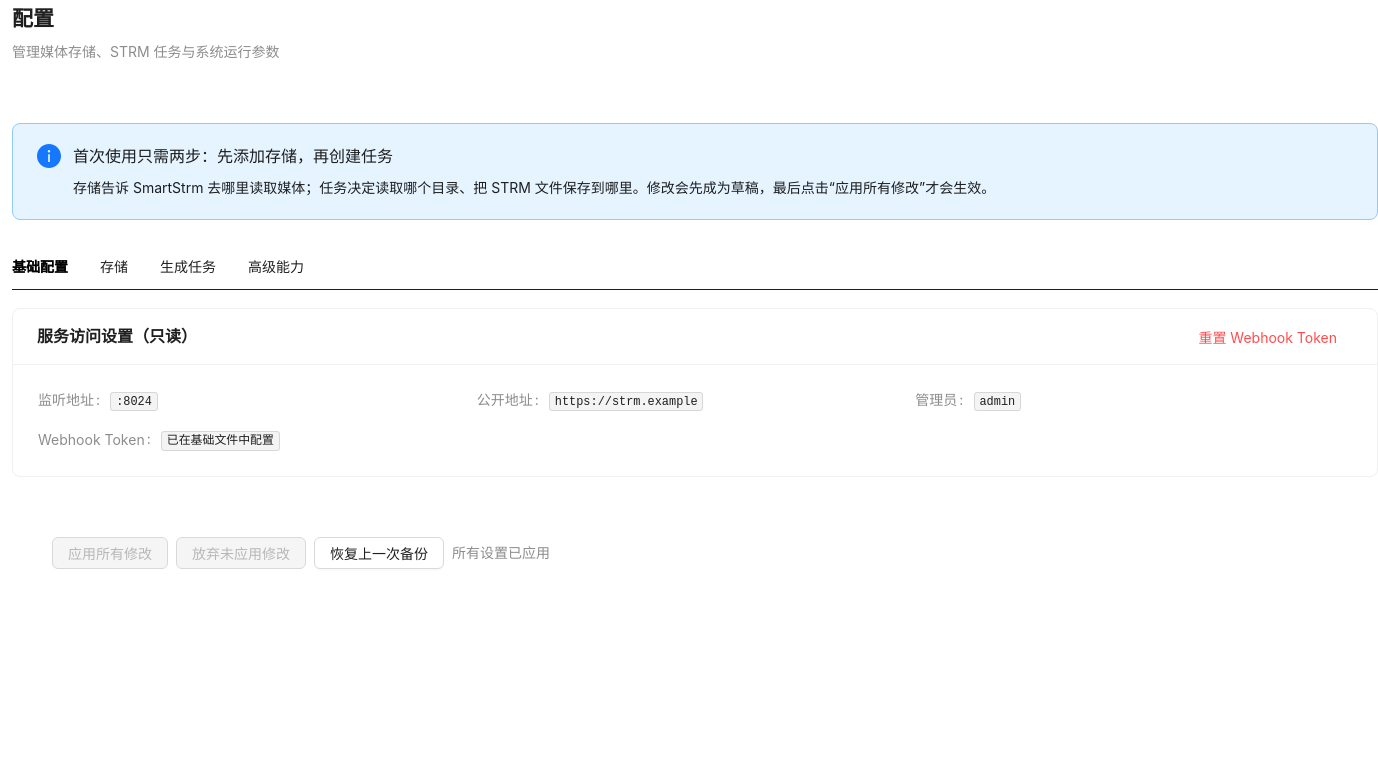
it: 加载并以四个标签页渲染配置区块
Expected: the text "服务访问设置（只读）" is shown, [37,326,197,346]
Expected: the text ":8024" is shown, [110,392,158,411]
Click the tab "存储": (114, 267) [100,256,128,278]
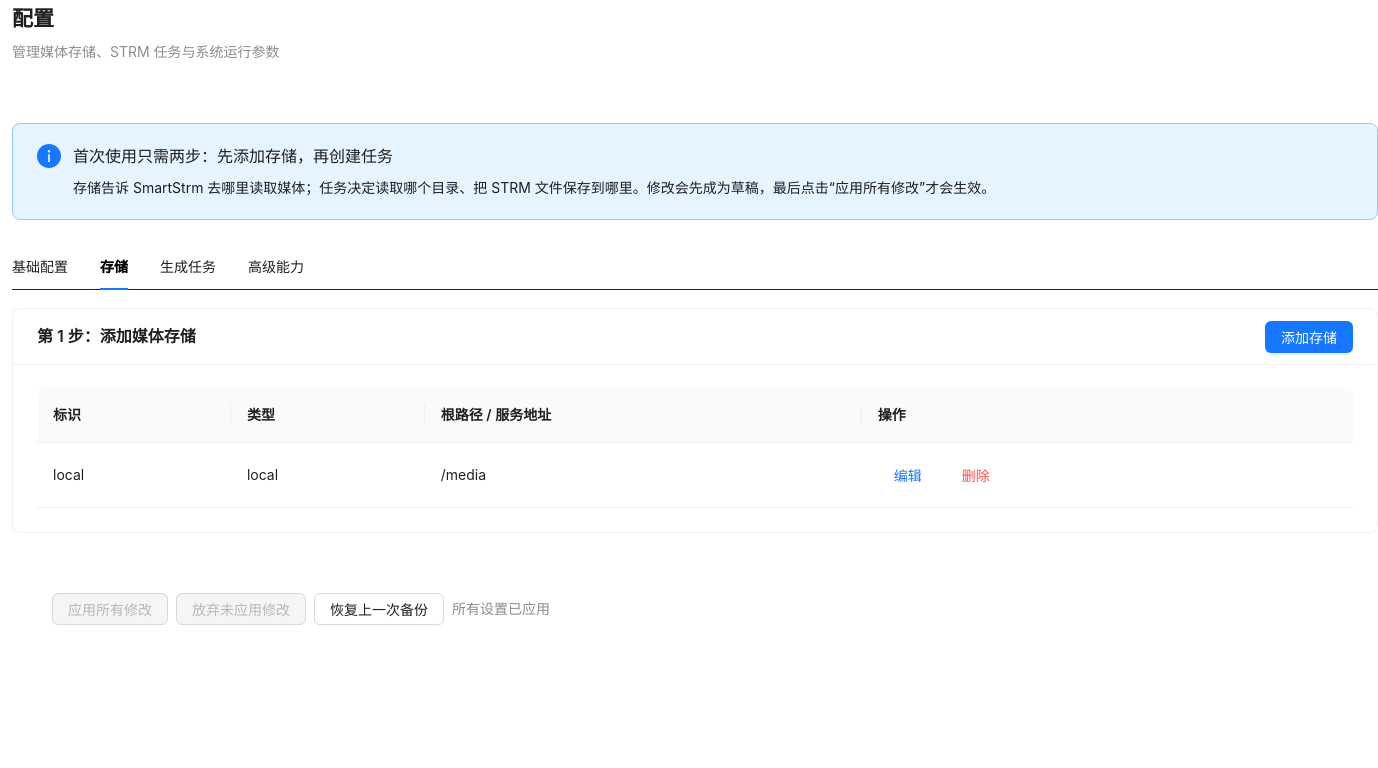
Expected: the text "第 1 步：添加媒体存储" is shown, [37,326,196,346]
Expected: the column heading "标识" is shown, [37,388,231,443]
Expected: the column heading "根路径 / 服务地址" is shown, [425,388,862,443]
